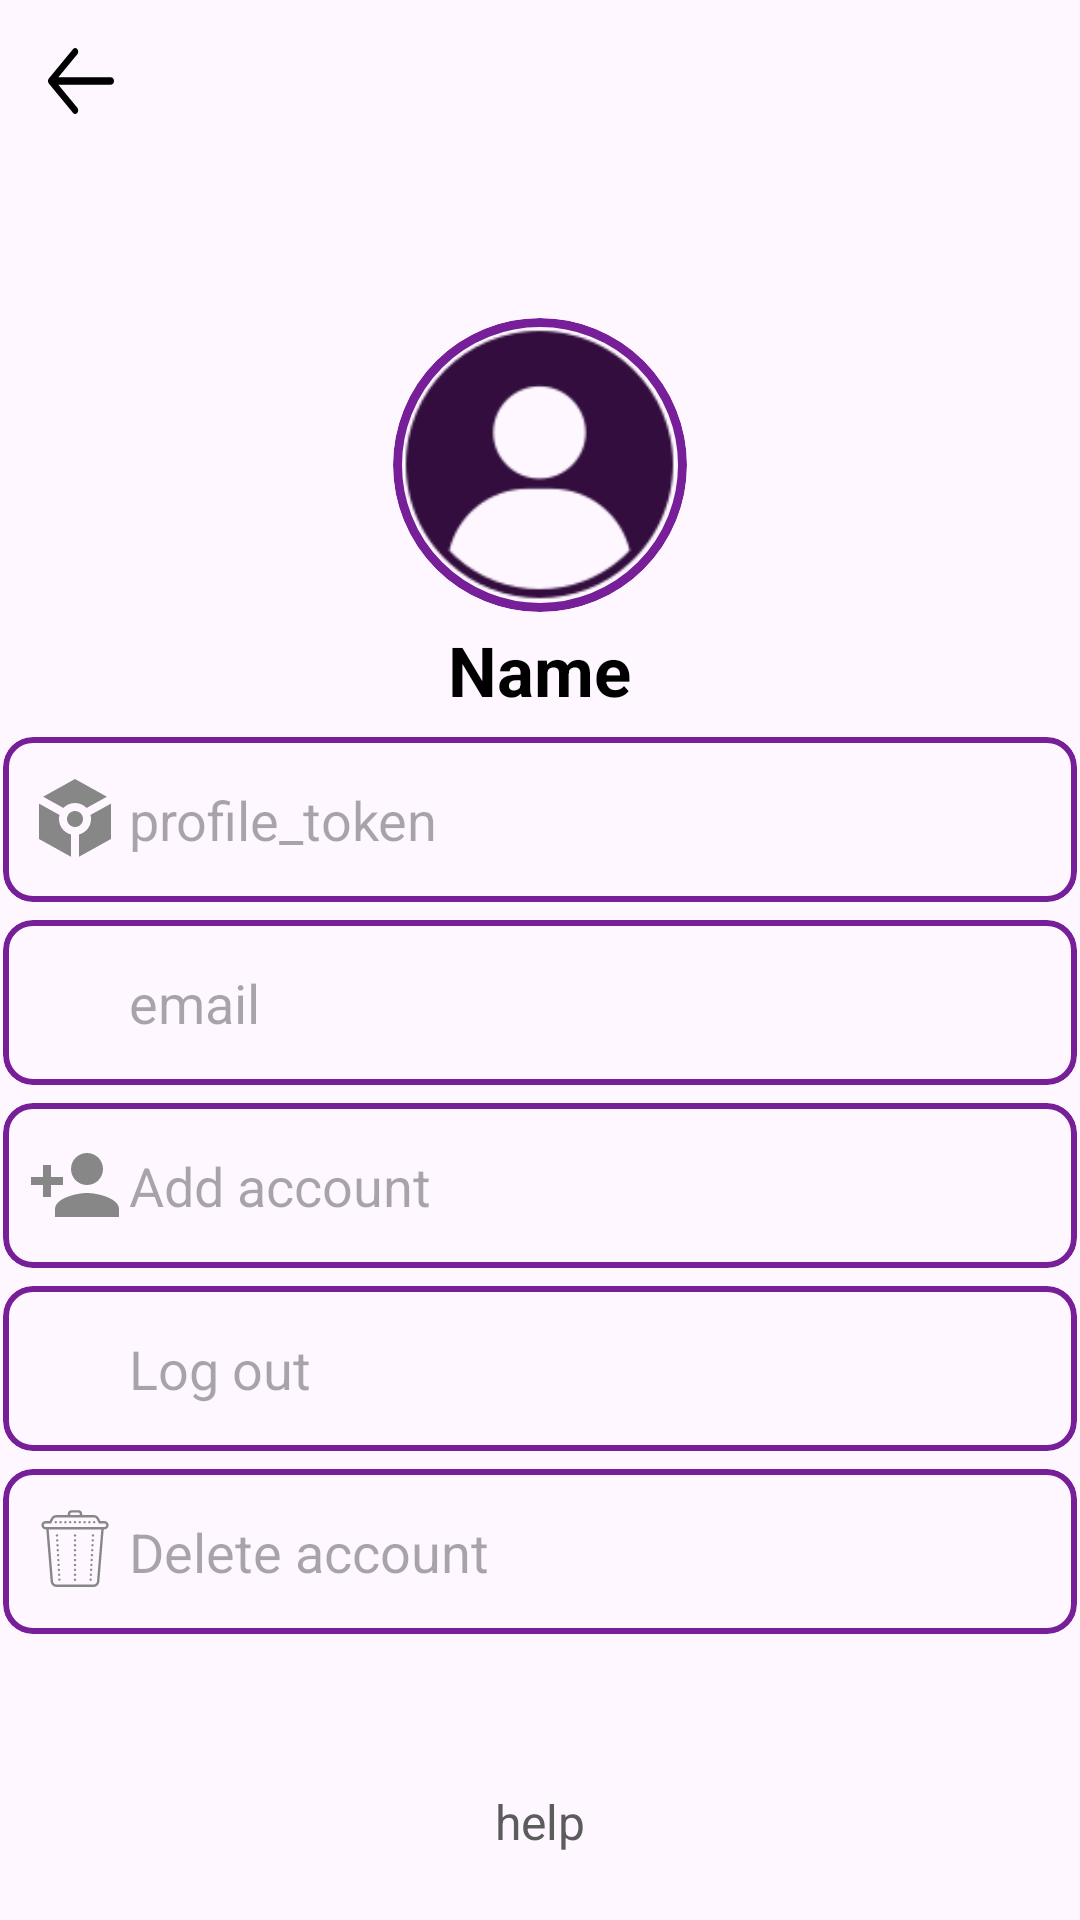

Locate icon controls on the screen. Image size 1080 × 1920, boxes as (x1, y1, x2, y2).
arrow left: (48, 48, 114, 114)
person: (397, 322, 682, 607)
person add: (31, 1153, 119, 1217)
